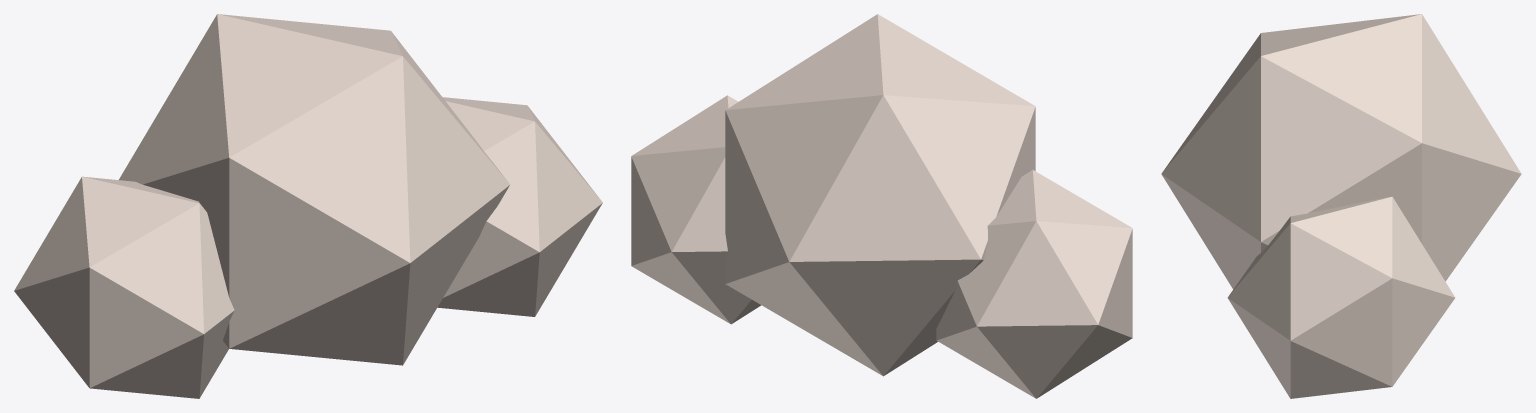
The model's file is Isl_15_Cloud_1.fbx.
3 renders of one model, left to right at view 1: azimuth 30°, elevation 25°; view 2: azimuth 150°, elevation 25°; view 3: azimuth 270°, elevation 25°, orthographic. The views are drawn at different scales.
Parts seen in each view (by area): view 1: Isl_15_Cloud_1; view 2: Isl_15_Cloud_1; view 3: Isl_15_Cloud_1.
Boxes of the visible parts, bbox=[...] form: Isl_15_Cloud_1: bbox=[14, 14, 602, 398]; Isl_15_Cloud_1: bbox=[631, 14, 1132, 398]; Isl_15_Cloud_1: bbox=[1161, 14, 1521, 398].
Bounding box in the file's own units: 1007 × 658 × 559.
1 material, 1 textured.
